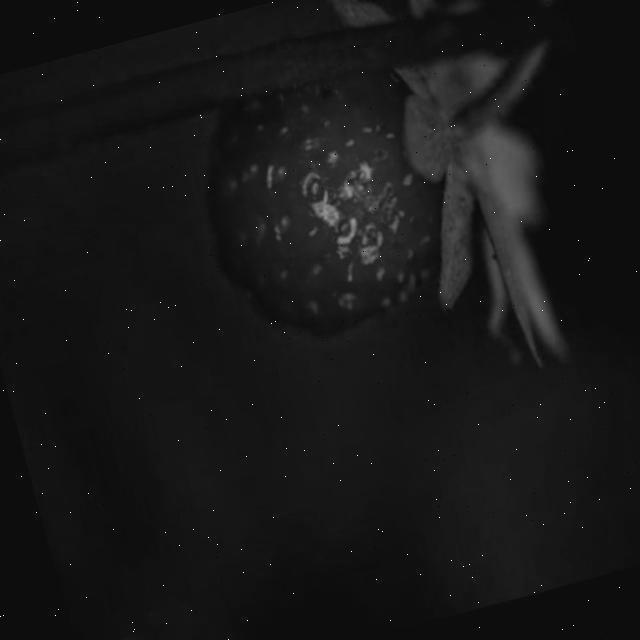ripe: (186, 49, 480, 350)
